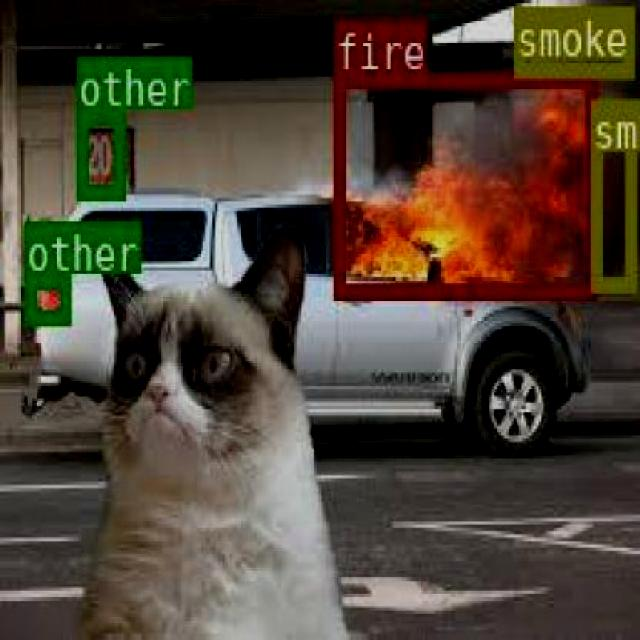fire: (332, 70, 596, 296)
smoke: (588, 95, 634, 288), (513, 4, 632, 73)
